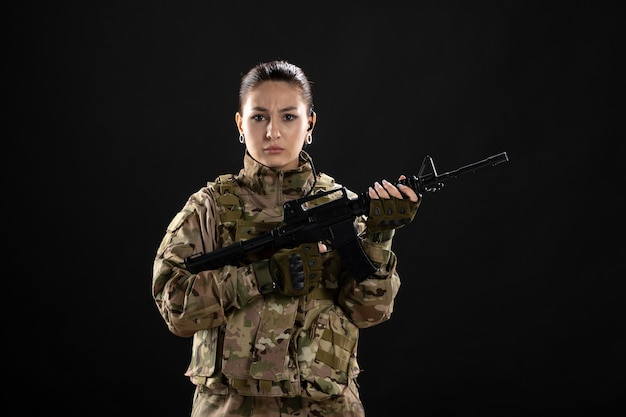gun: (185, 149, 511, 283)
